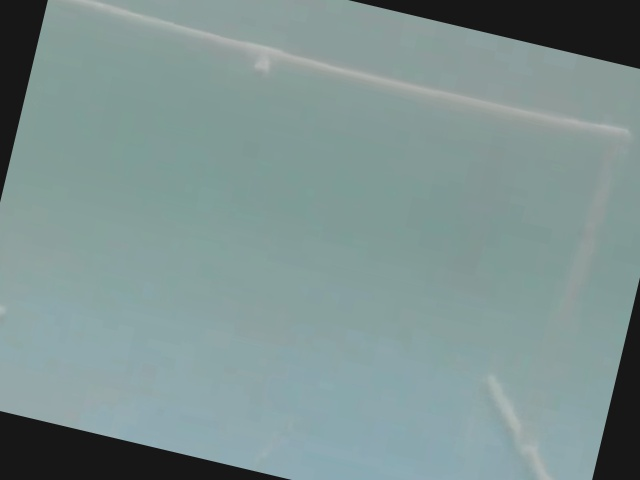gate: (47, 1, 629, 473)
